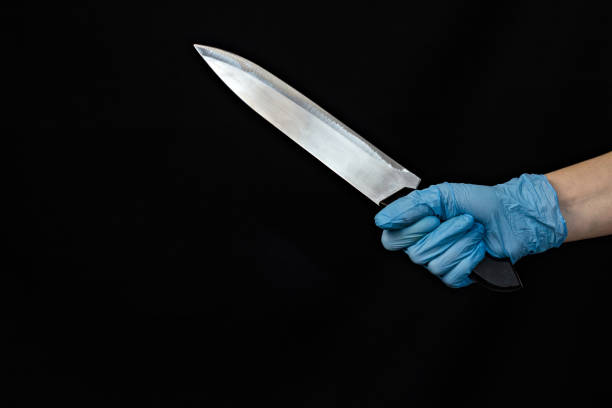knife: (190, 40, 527, 296)
